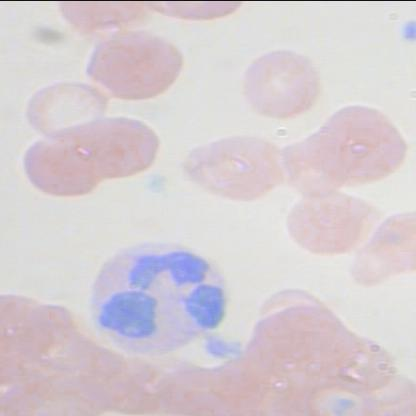Platelets: (199, 330, 243, 360), (389, 14, 415, 44)
RBC: (310, 98, 412, 188), (174, 128, 290, 206), (84, 24, 188, 104), (284, 184, 378, 258), (236, 44, 324, 122), (15, 74, 113, 140), (12, 132, 94, 204), (77, 107, 159, 178), (345, 208, 415, 290)
WBC: (82, 235, 230, 357)
